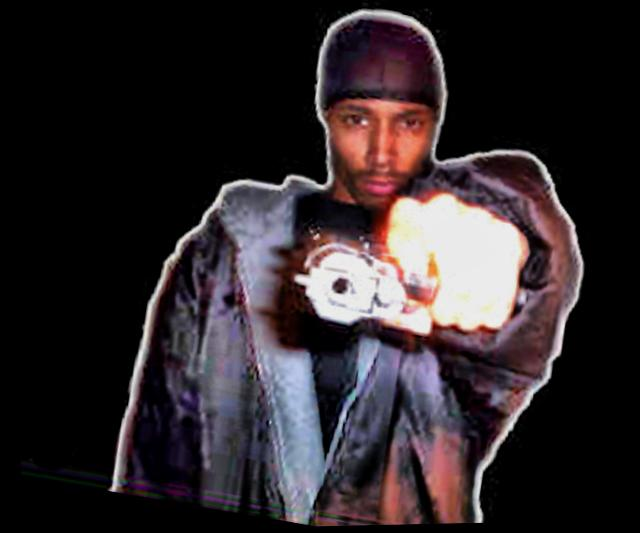pistol: (269, 190, 453, 356)
